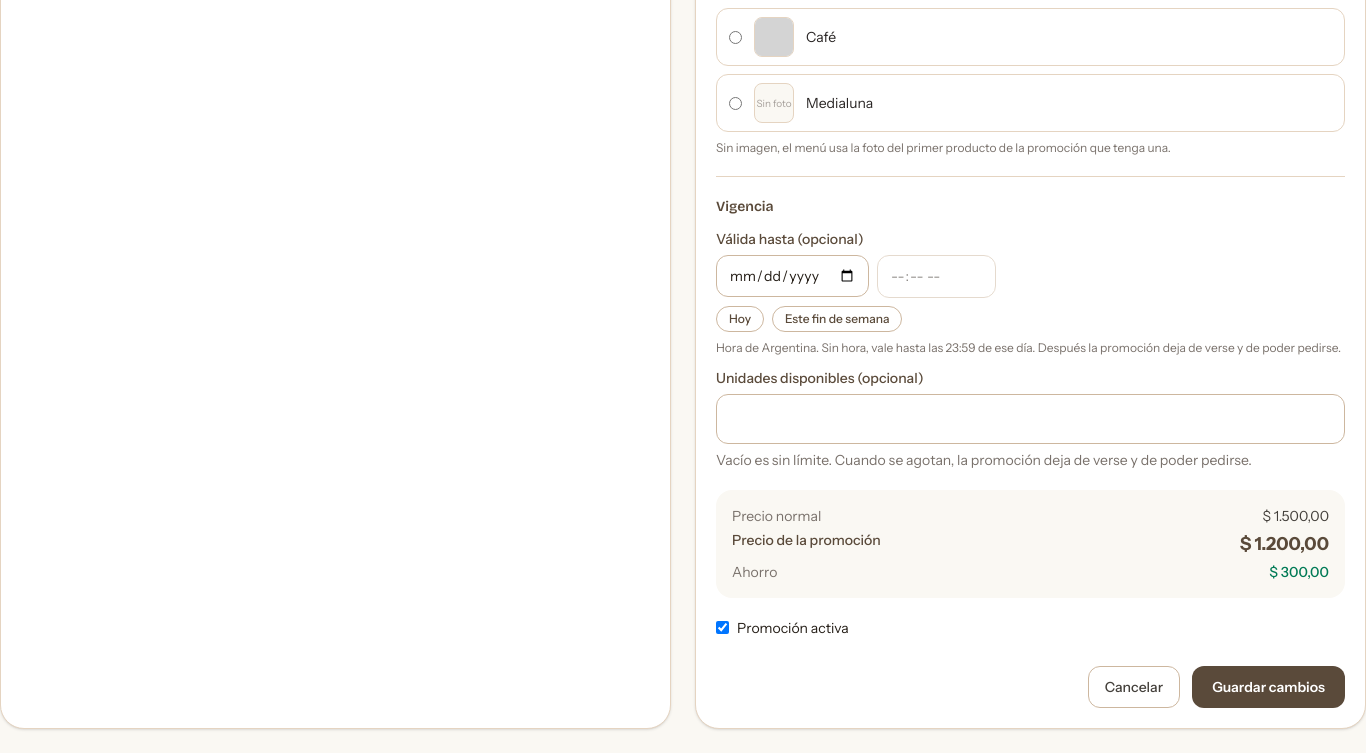
Test: editor de promoción — vigencia y stock (ADMIN-PROMO-5, 7 y 10) › muestra el error de la acción en el campo
The image size is (1366, 753).
(page scrolled)
Type "0" into the number field labelled "Unidades disponibles (opcional)" at [1030, 419], box left=716, top=394, right=1345, bottom=444
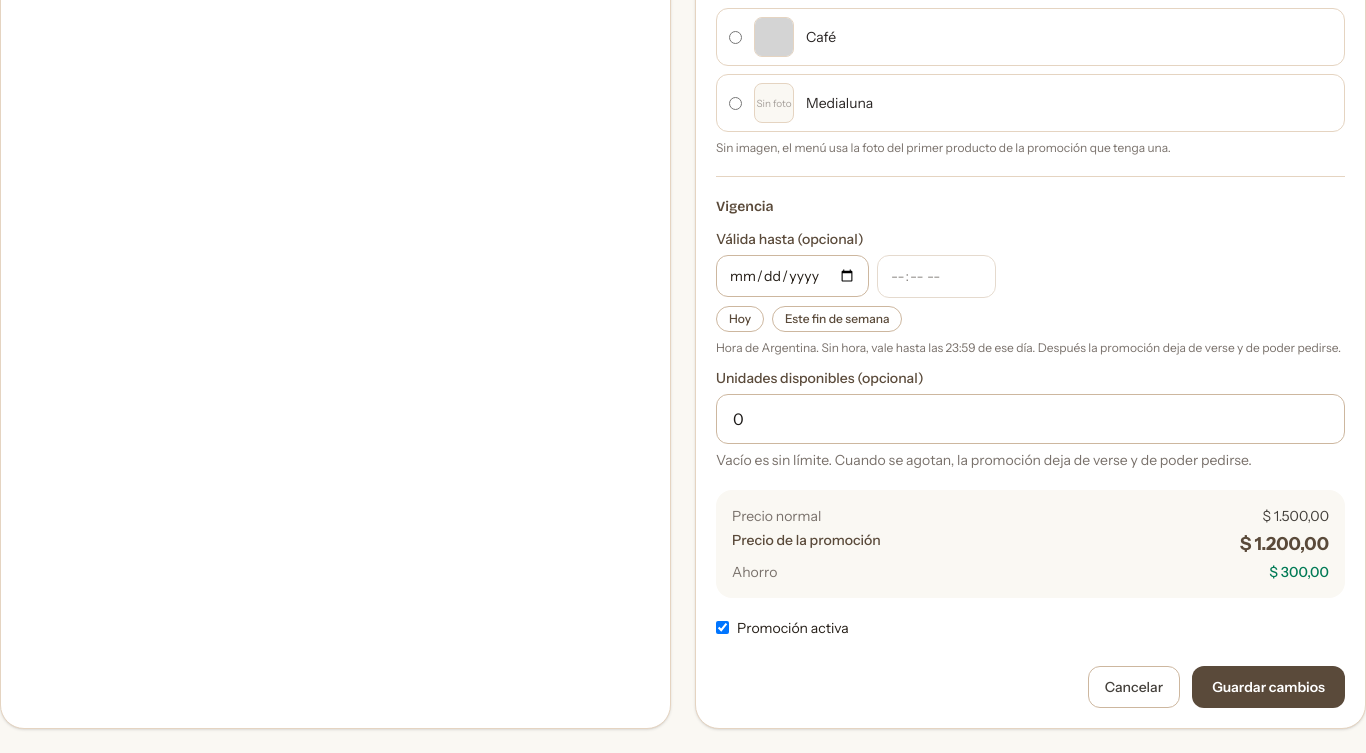
Click the button "Guardar cambios" at [1269, 687], box left=1192, top=666, right=1345, bottom=708
(page scrolled)
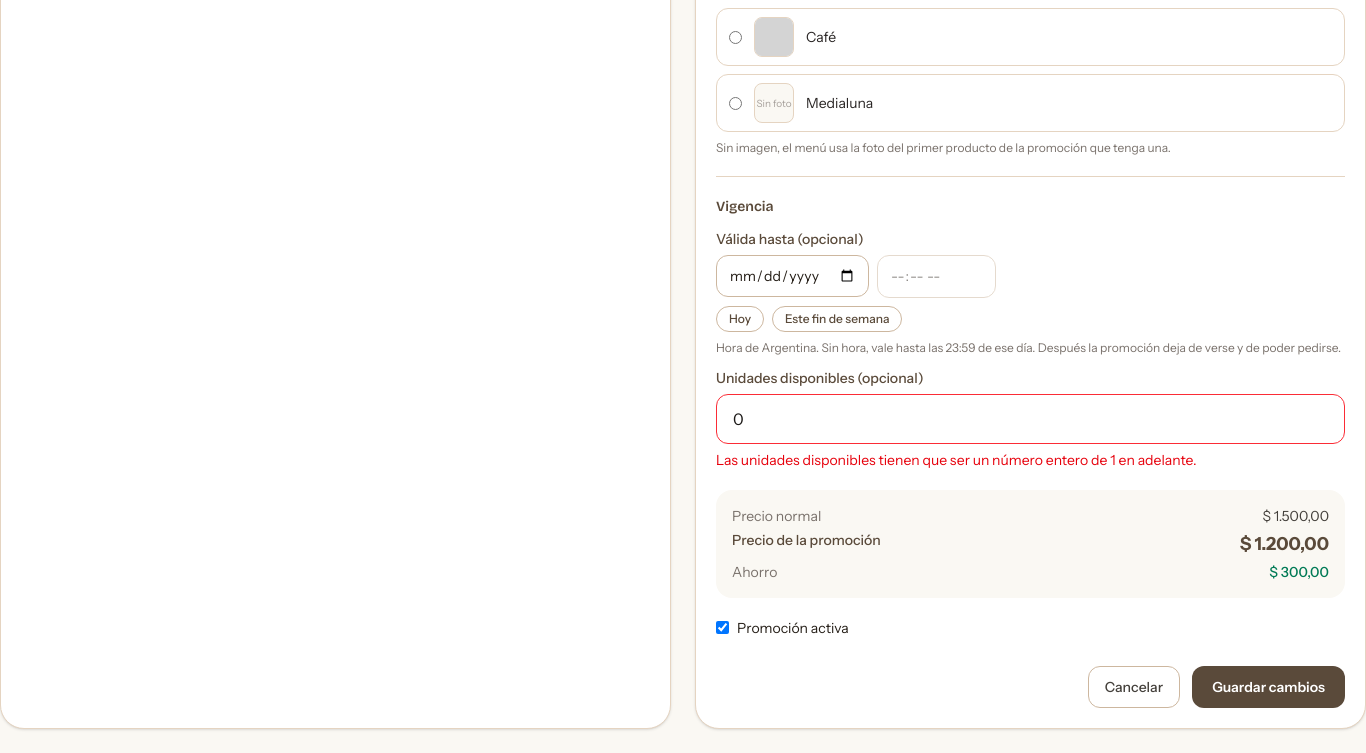
Now the text "número entero de 1 en adelante" is shown, box left=716, top=451, right=1196, bottom=469
